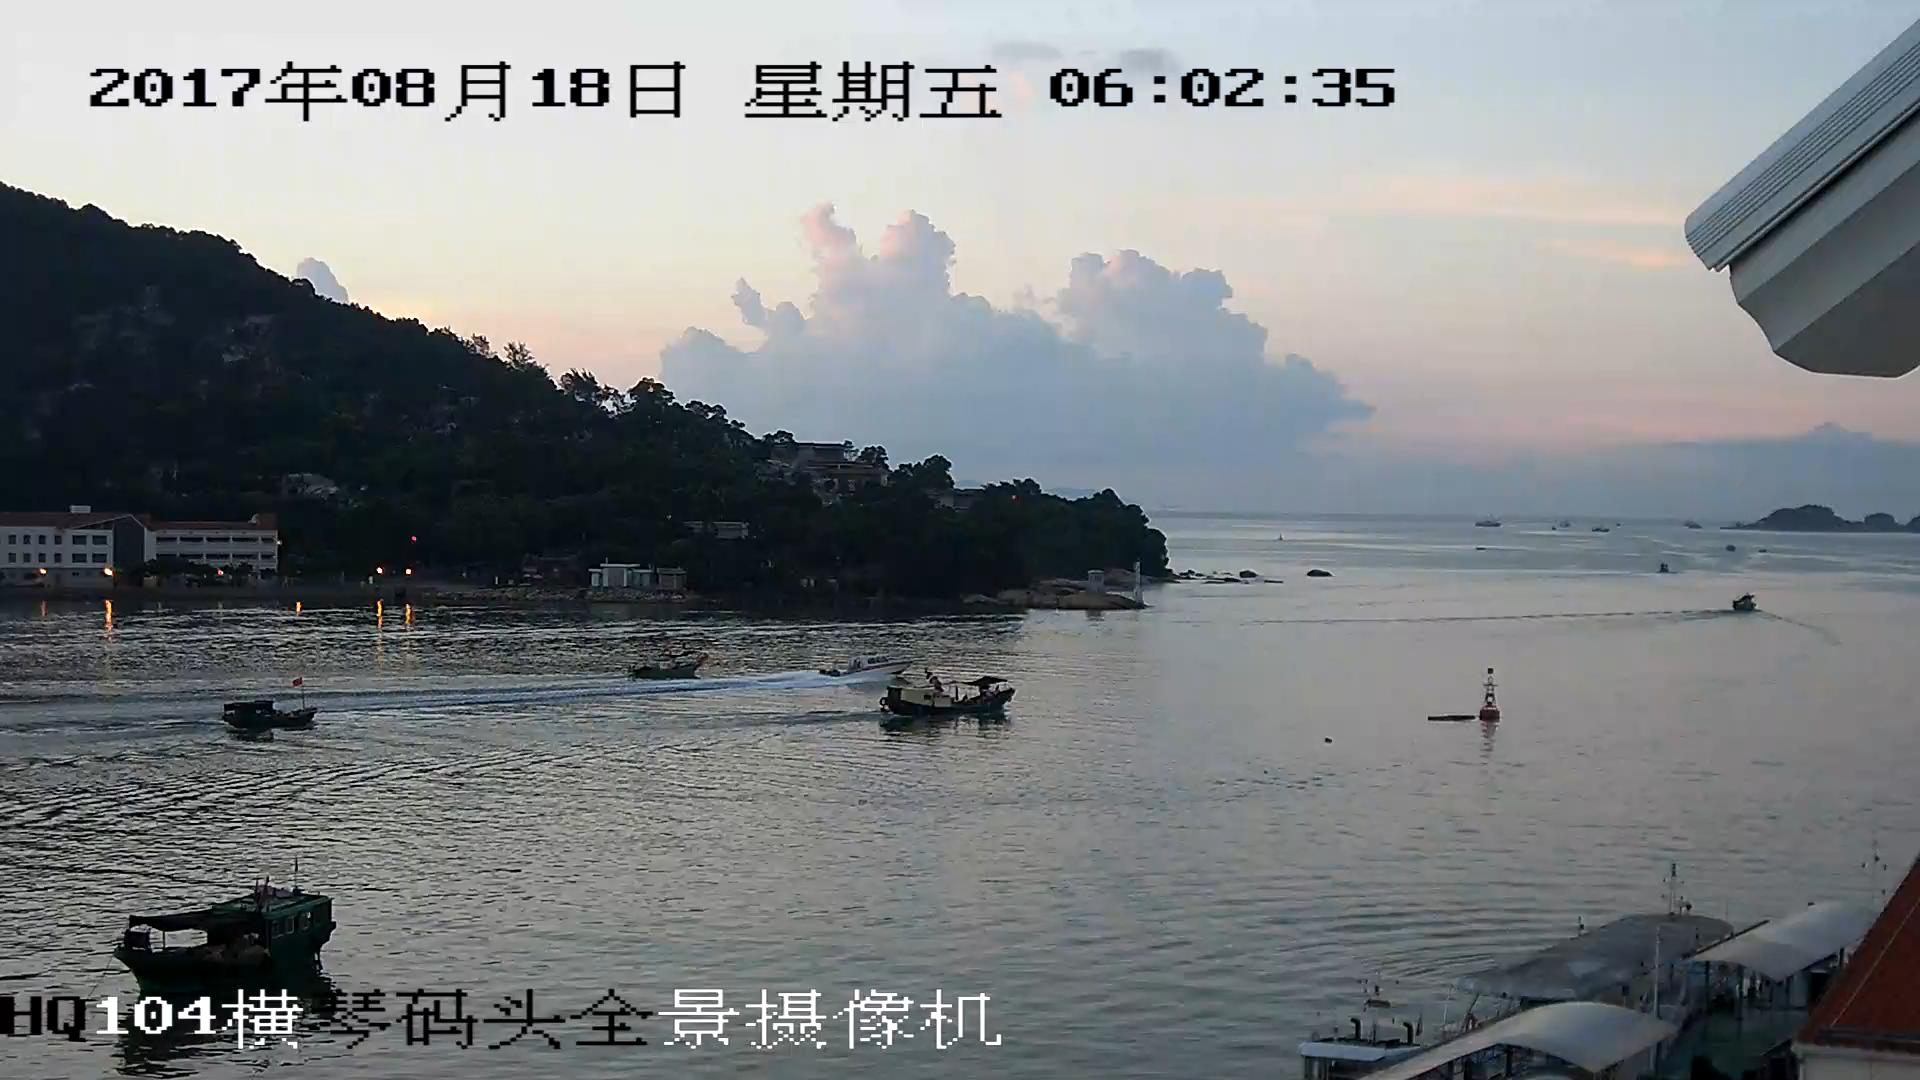fishing boat: (109, 888, 336, 990), (880, 674, 1020, 720), (229, 688, 318, 731), (625, 656, 709, 681)
